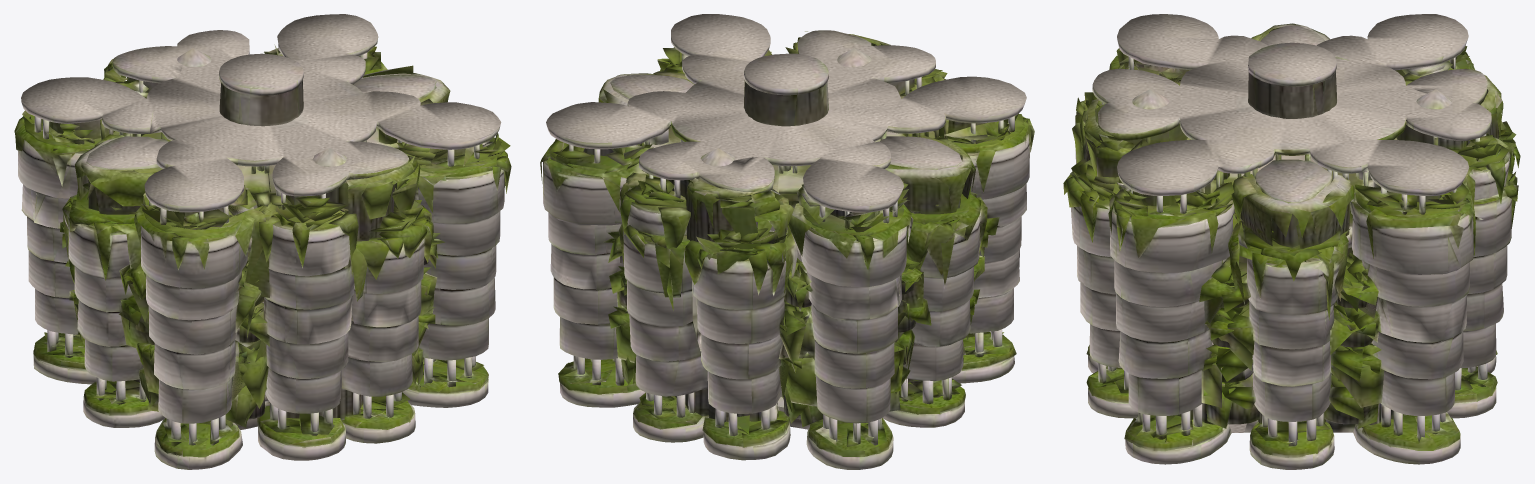
The model's file is hive.glb.
The picture shows the model from 3 angles, left to right: view 1: azimuth 30°, elevation 25°; view 2: azimuth 150°, elevation 25°; view 3: azimuth 270°, elevation 25°; orthographic projection. The views are drawn at different scales.
Parts seen in each view (by area): view 1: Mesh_0; view 2: Mesh_0; view 3: Mesh_0.
Boxes of the visible parts, x1,y1,x2,y2 form: Mesh_0: (14, 14, 511, 469); Mesh_0: (540, 14, 1034, 469); Mesh_0: (1063, 14, 1520, 469).
Size of the model in its own units: 0.9507 by 0.7358 by 0.9492.
Materials: 1 (1 with a texture image).
